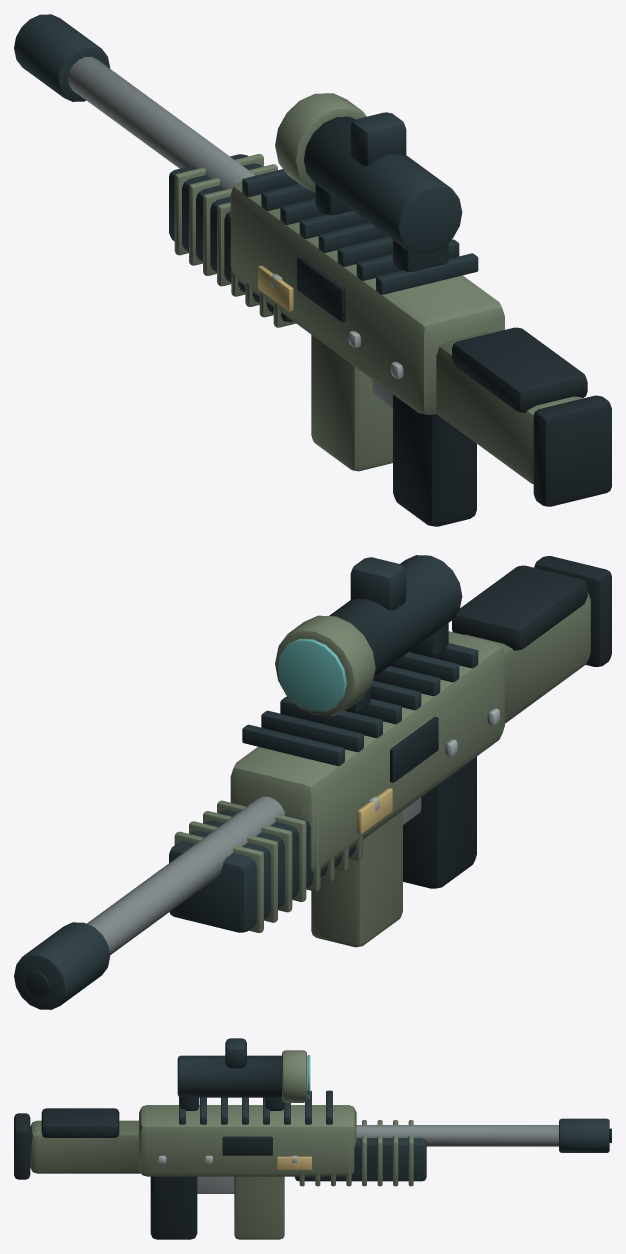
The model's file is kf-weapon-sniper.glb.
3 renders of one model, top to bottom at view 1: azimuth 30°, elevation 25°; view 2: azimuth 150°, elevation 25°; view 3: azimuth 270°, elevation 25°, orthographic. The views are drawn at different scales.
Parts seen in each view (by area): view 1: Weapon Painted receiver, Weapon Gunmetal, Weapon Grip rubber, Weapon Machined steel, Weapon Markings; view 2: Weapon Painted receiver, Weapon Gunmetal, Weapon Grip rubber, Weapon Machined steel, Weapon Lens, Weapon Markings; view 3: Weapon Painted receiver, Weapon Gunmetal, Weapon Grip rubber, Weapon Machined steel, Weapon Markings.
Boxes of the visible parts, bbox=[...] form: Weapon Painted receiver: bbox=[174, 93, 582, 483]; Weapon Gunmetal: bbox=[14, 14, 478, 322]; Weapon Grip rubber: bbox=[297, 256, 611, 526]; Weapon Machined steel: bbox=[68, 56, 403, 408]; Weapon Markings: bbox=[258, 265, 293, 311]; Weapon Painted receiver: bbox=[174, 593, 590, 947]; Weapon Gunmetal: bbox=[14, 555, 478, 1009]; Weapon Grip rubber: bbox=[26, 556, 611, 995]; Weapon Machined steel: bbox=[87, 708, 499, 955]; Weapon Lens: bbox=[277, 639, 346, 711]; Weapon Markings: bbox=[357, 788, 392, 833]; Weapon Painted receiver: bbox=[30, 1050, 413, 1239]; Weapon Gunmetal: bbox=[177, 1038, 609, 1181]; Weapon Grip rubber: bbox=[14, 1108, 611, 1239]; Weapon Machined steel: bbox=[158, 1125, 558, 1193]; Weapon Markings: bbox=[277, 1156, 311, 1169].
Bounding box in the file's own units: 0.171 × 0.5466 × 1.54.
